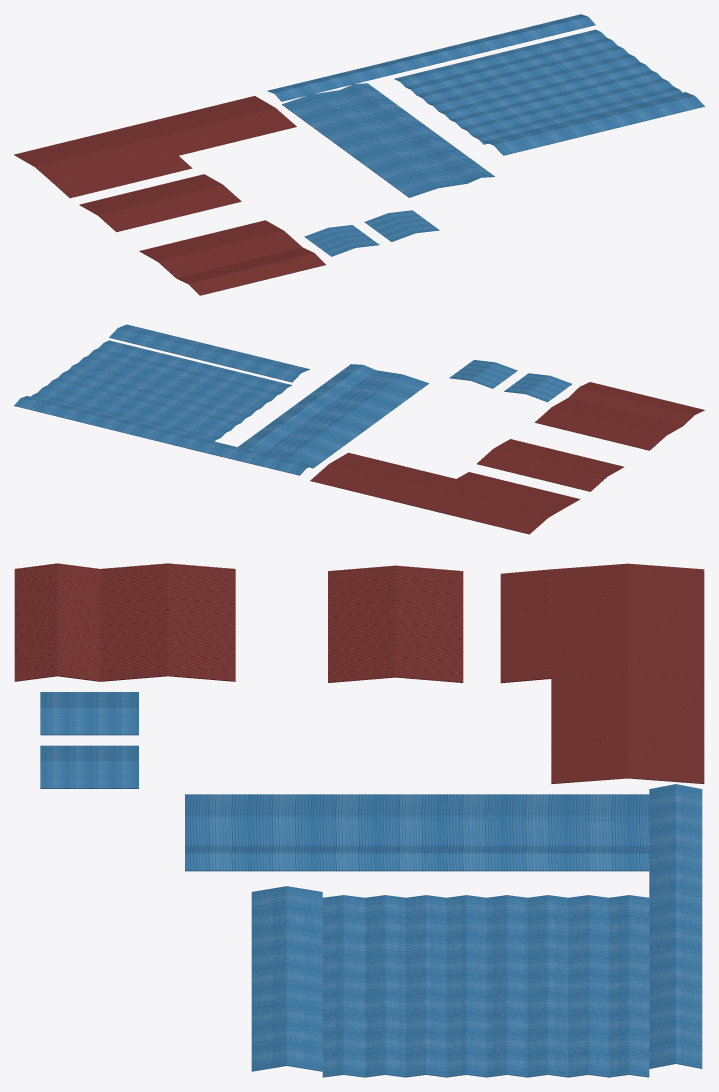
The model's file is DING.gltf.
3 views of the same model, one above another, from view 1: azimuth 30°, elevation 25°; view 2: azimuth 150°, elevation 25°; view 3: azimuth 270°, elevation 25° (orthographic). The views are drawn at different scales.
Parts seen in each view (by area): view 1: 对象055; view 2: 对象055; view 3: 对象055.
Boxes of the visible parts, x1=… form: 对象055: x1=14, y1=14, x2=704, y2=295; 对象055: x1=14, y1=324, x2=704, y2=534; 对象055: x1=14, y1=563, x2=704, y2=1077.
Size of the model in its own units: 716 by 9.89 by 412.
2 materials, 2 textured.
